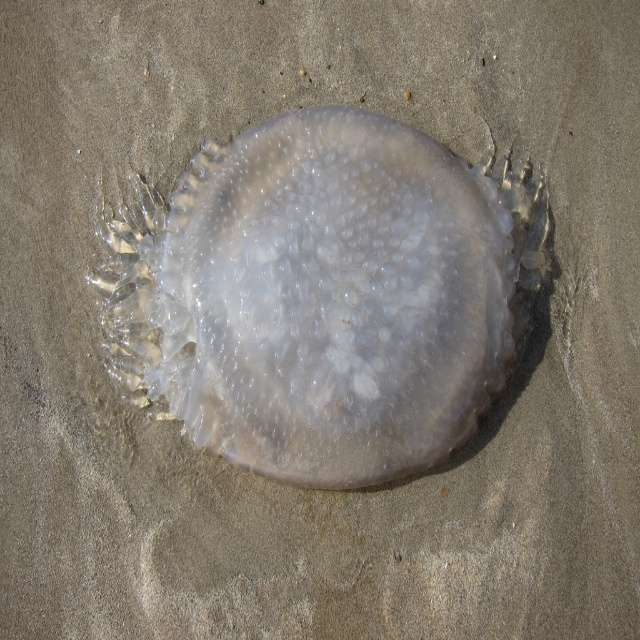Jellyfish: (86, 101, 546, 491)
